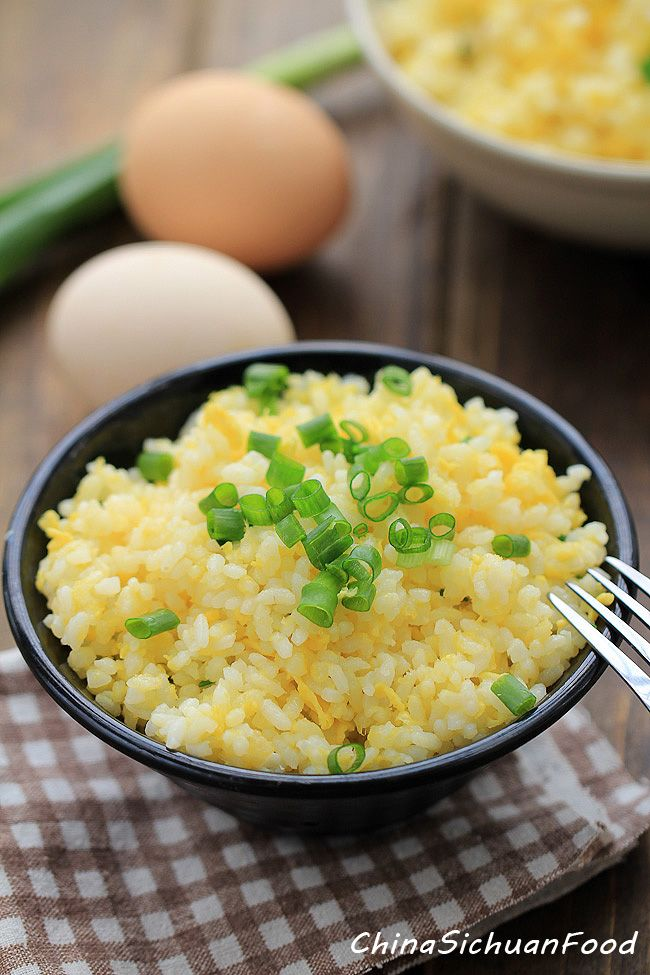plain rice: (70, 412, 566, 742)
